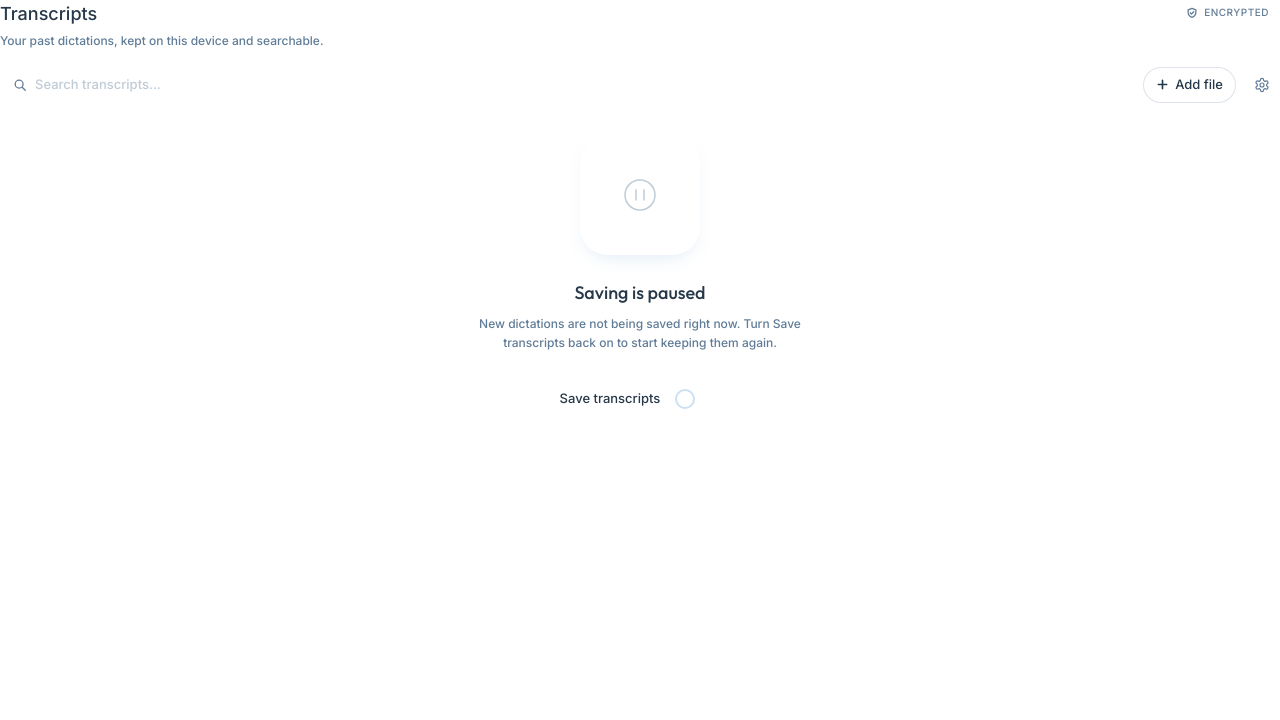
turning on transcript history › shows only the loss disclosure on Windows
Click the switch named "Save transcripts" at {"x": 696, "y": 398}, box [672,386,720,412]
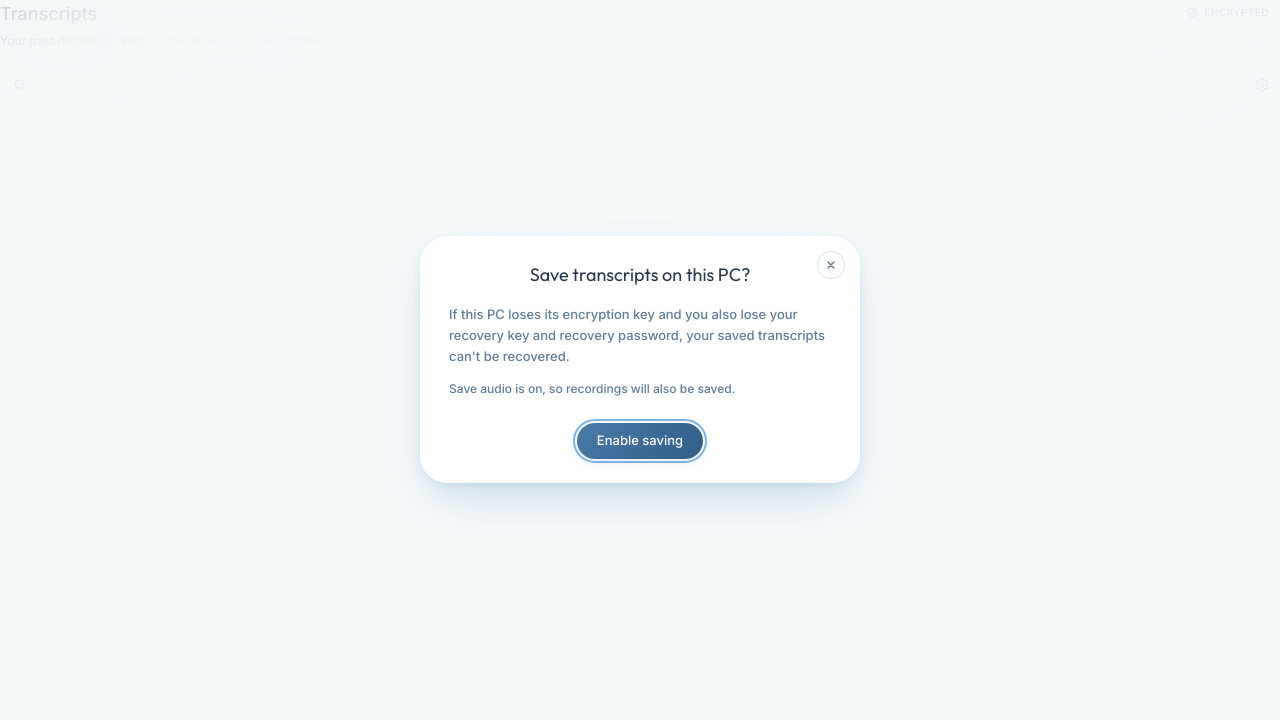
Expected: the text "If this PC loses its encryption key and you also lose your recovery key and recovery password, your saved transcripts ca" is shown, [449,306,825,365]
Click the button "Enable saving" at {"x": 640, "y": 441}, box [577,423,703,459]
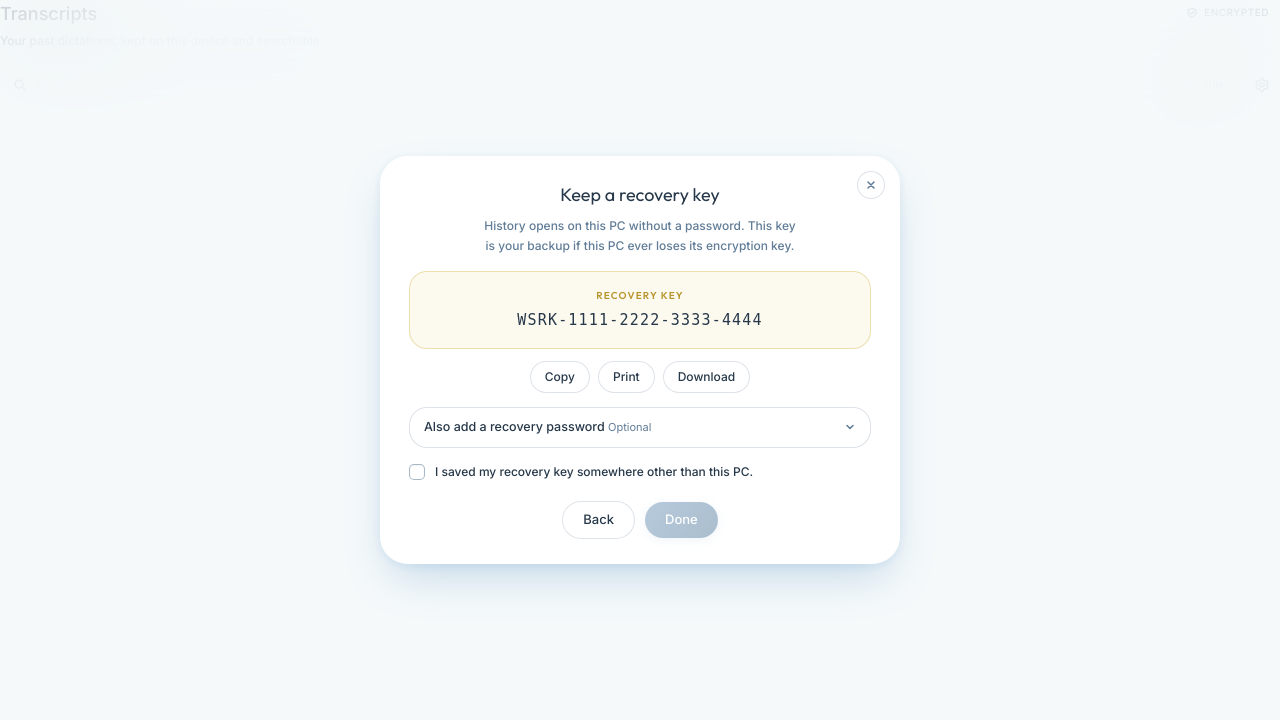
Expected: the heading "Keep a recovery key" is shown, [560,183,720,206]
Expected: the text "History opens on this PC without a password. This key is your backup if this PC ever loses its encryption key." is shown, [484,218,796,253]
Expected: the checkbox named "I saved my recovery key somewhere other than this PC." is shown, [409,464,425,480]
